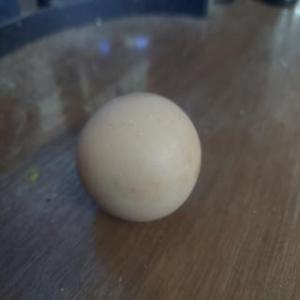egg: (69, 90, 201, 224)
